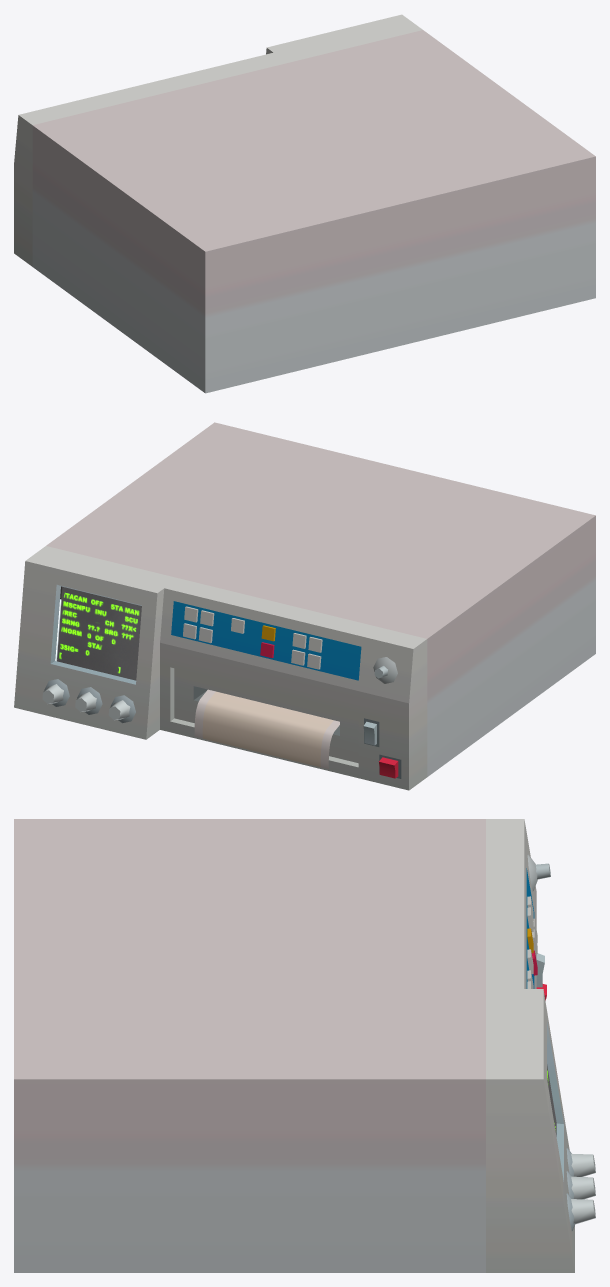
The model's file is Pfb_JLAB_Encephalograph_01_Device.fbx.
3 renders of one model, top to bottom at view 1: azimuth 30°, elevation 25°; view 2: azimuth 150°, elevation 25°; view 3: azimuth 270°, elevation 25°, orthographic. The views are drawn at different scales.
Parts seen in each view (by area): view 1: Color; view 2: Color, Monitors; view 3: Color.
Boxes of the visible parts, x1,y1,x2,y2 form: Color: (14,14,595,393); Color: (14,422,595,790); Monitors: (55,586,141,680); Color: (14,819,595,1272).
Size of the model in its own units: 0.4343 by 0.1506 by 0.4105.
Materials: 2 (2 with a texture image).
